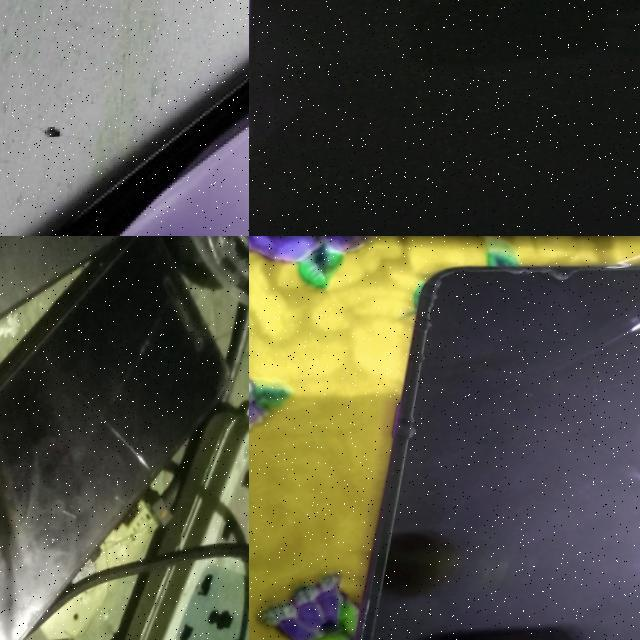screen crack: (539, 283, 640, 400), (405, 273, 445, 462), (97, 408, 163, 506)
